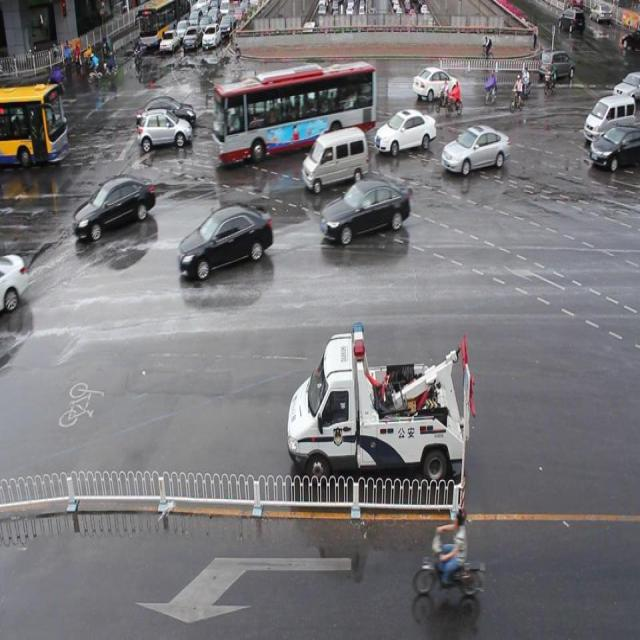bus: (286, 320, 475, 486)
car: (179, 204, 272, 278), (322, 178, 410, 242), (74, 174, 156, 238), (441, 124, 508, 174), (374, 107, 435, 153), (586, 123, 640, 169), (138, 108, 191, 149), (136, 98, 196, 131), (1, 250, 28, 320), (412, 65, 458, 100), (242, 82, 282, 117)
truck: (302, 129, 368, 190), (582, 92, 640, 144)
van: (212, 62, 375, 160)
